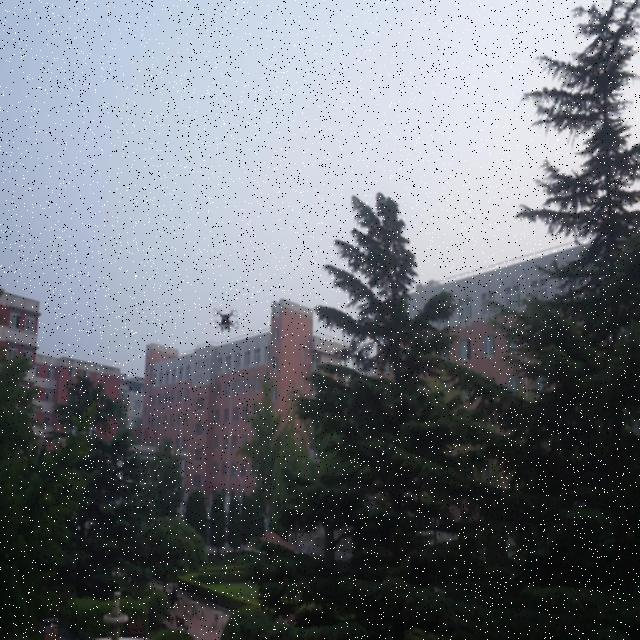UAV: (213, 307, 239, 333)
